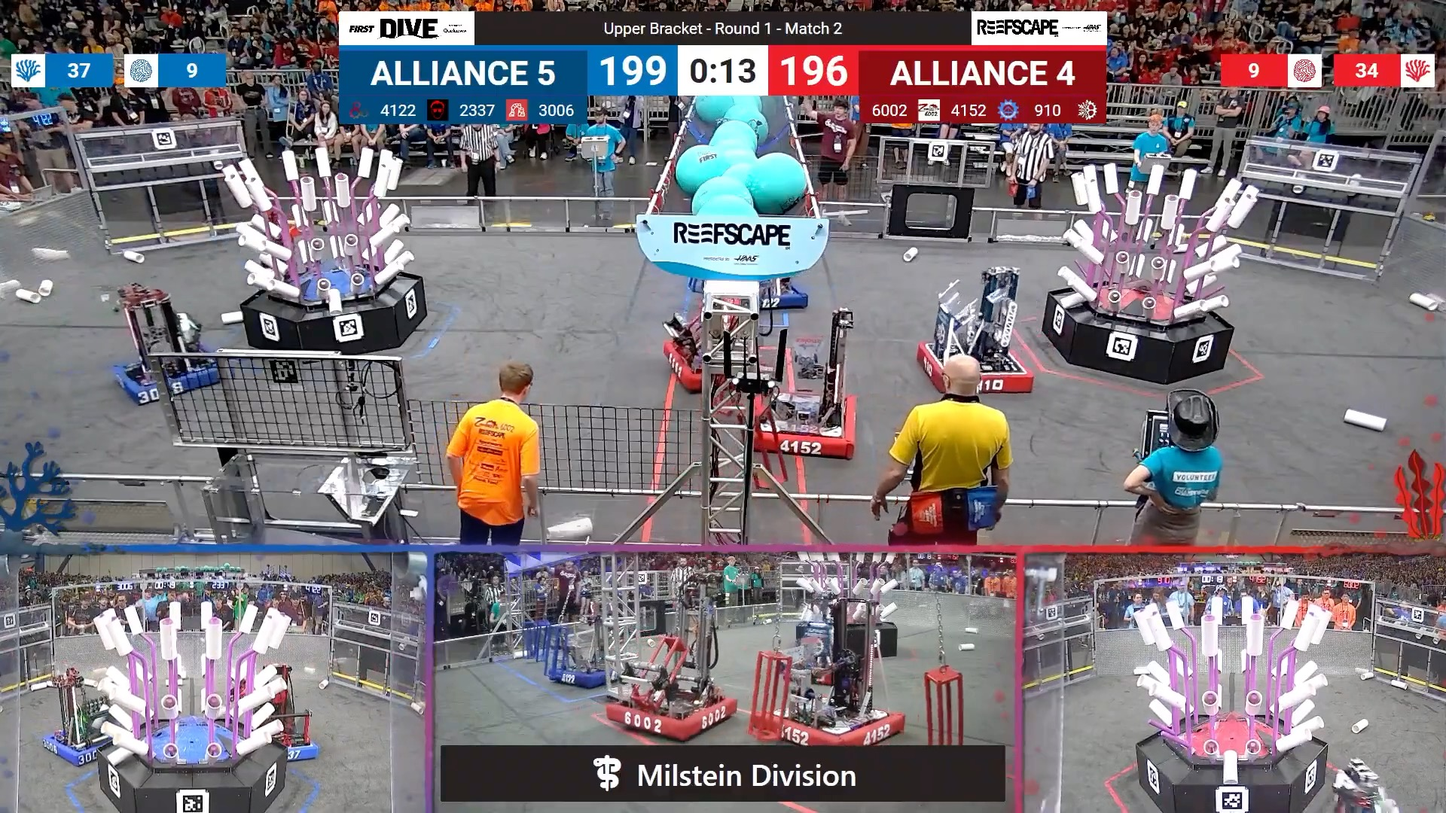bumpers: (748, 389, 864, 459), (913, 338, 1042, 400), (601, 688, 737, 739), (107, 352, 236, 402), (764, 708, 905, 748), (38, 726, 126, 767), (655, 340, 706, 391), (267, 720, 324, 763), (543, 662, 624, 689), (752, 280, 813, 309)
